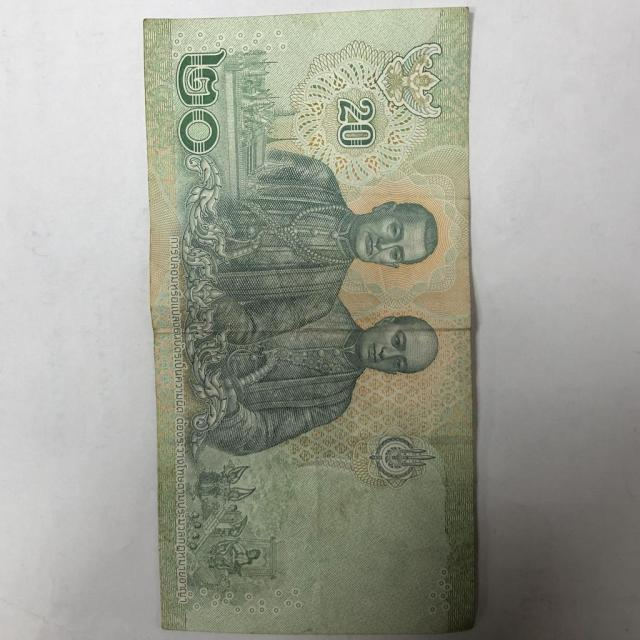THAI20: (142, 7, 486, 639)
